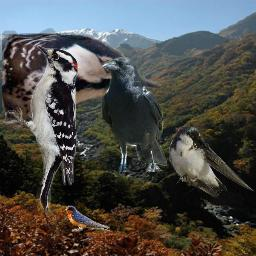Crow: (102, 57, 167, 172)
Swallow: (167, 125, 255, 198), (64, 205, 110, 233)
Woodpecker: (2, 26, 161, 125), (1, 43, 80, 212)
